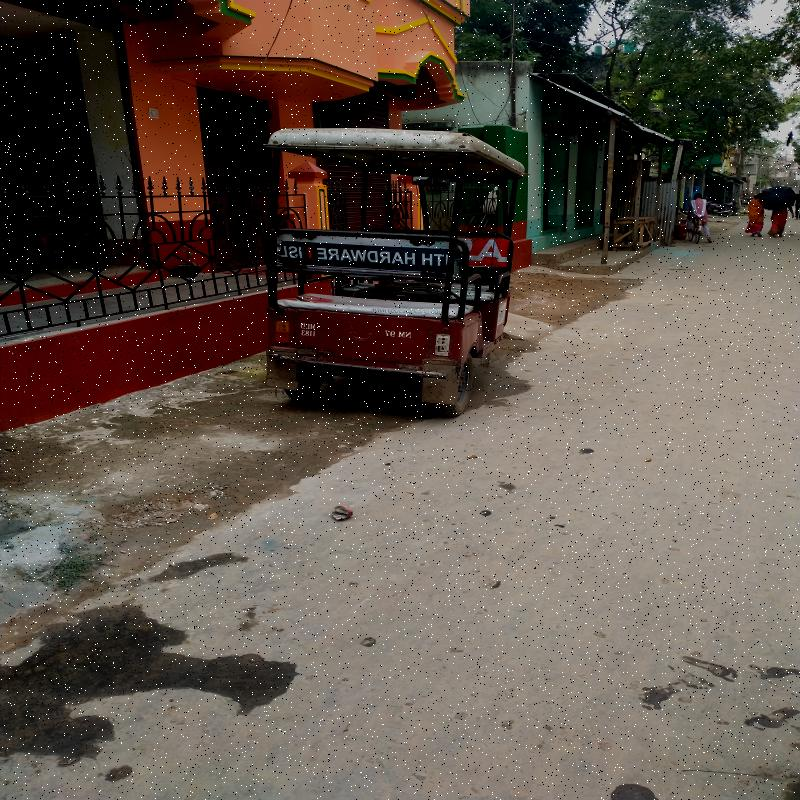auto: (272, 161, 516, 398)
